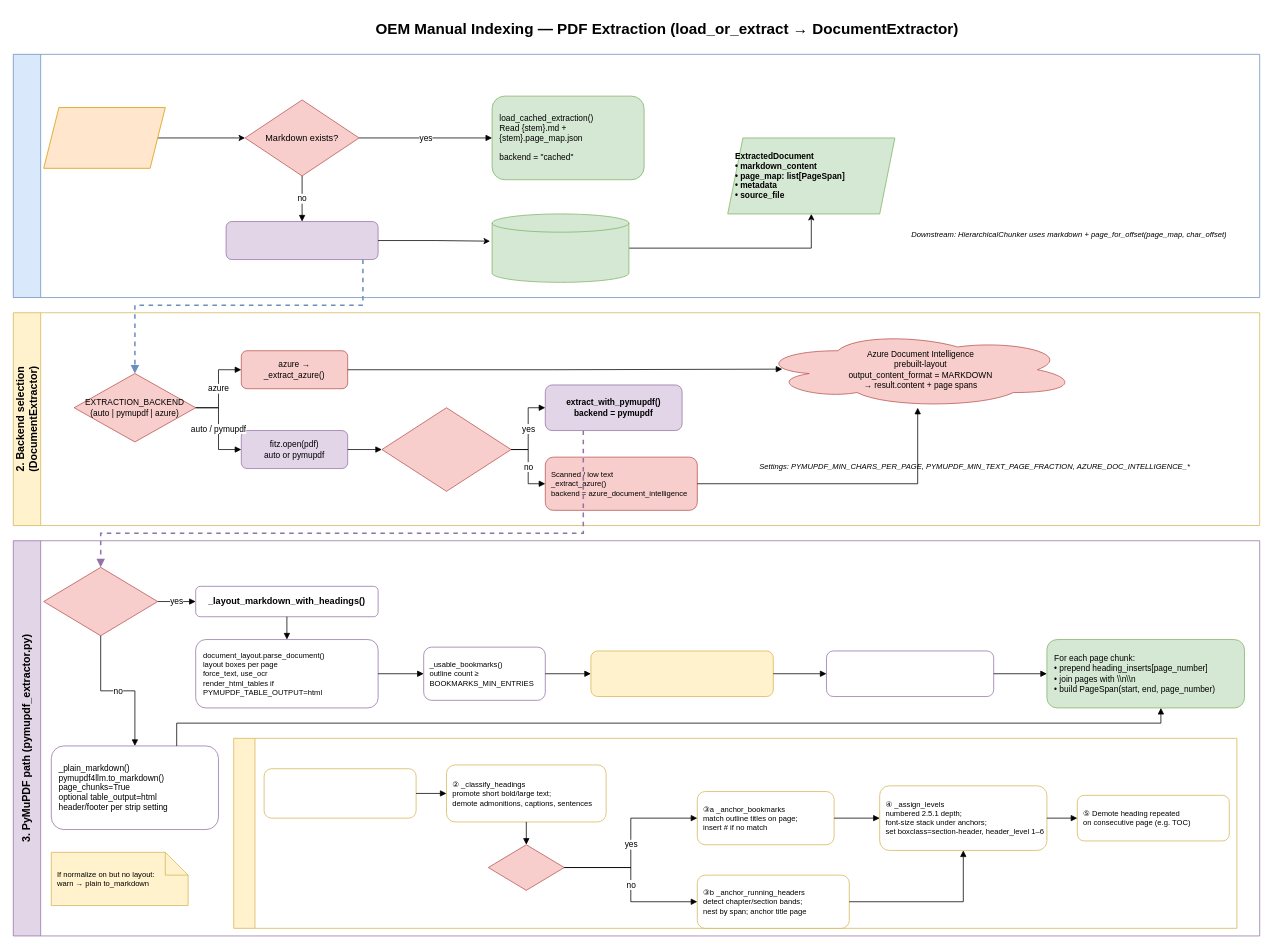
Some shapes in this 1273 by 949 pixel diagram are drawn without their labels. The box of each missing label's shape, as (x1, y1, x2, y2) in pixels:
1. Entry & markdown cache (load_or_extract.py): (13, 54, 1260, 298)
Bookmarks usable?: (488, 844, 564, 890)
DocumentExtractor.extract() (extractor.py): (225, 221, 378, 260)
heading_normalizer.py (in-place on ParsedDocument boxes): (233, 738, 1237, 928)
normalize_headings(parsed, bookmarks) → heading_inserts{page → # lines}: (590, 650, 773, 697)
parsed.to_markdown(page_chunks=True) header/footer from PYMUPDF_STRIP_*: (826, 650, 994, 697)
PDF path + ManualMetadata + Settings: (43, 107, 165, 168)
pymupdf mode OR is_text_extractable()? (min chars/page + min text-page fraction): (381, 407, 511, 491)
PYMUPDF_NORMALIZE_HEADINGS AND pymupdf4llm _use_layout?: (43, 567, 158, 636)
save_extracted_markdown() if MARKDOWN_OUTPUT_DIR set → {stem}.md + page_map.json: (491, 213, 629, 282)
① _mark_margin_boxes page-header/footer; repeated top/bottom band text: (263, 768, 416, 818)
